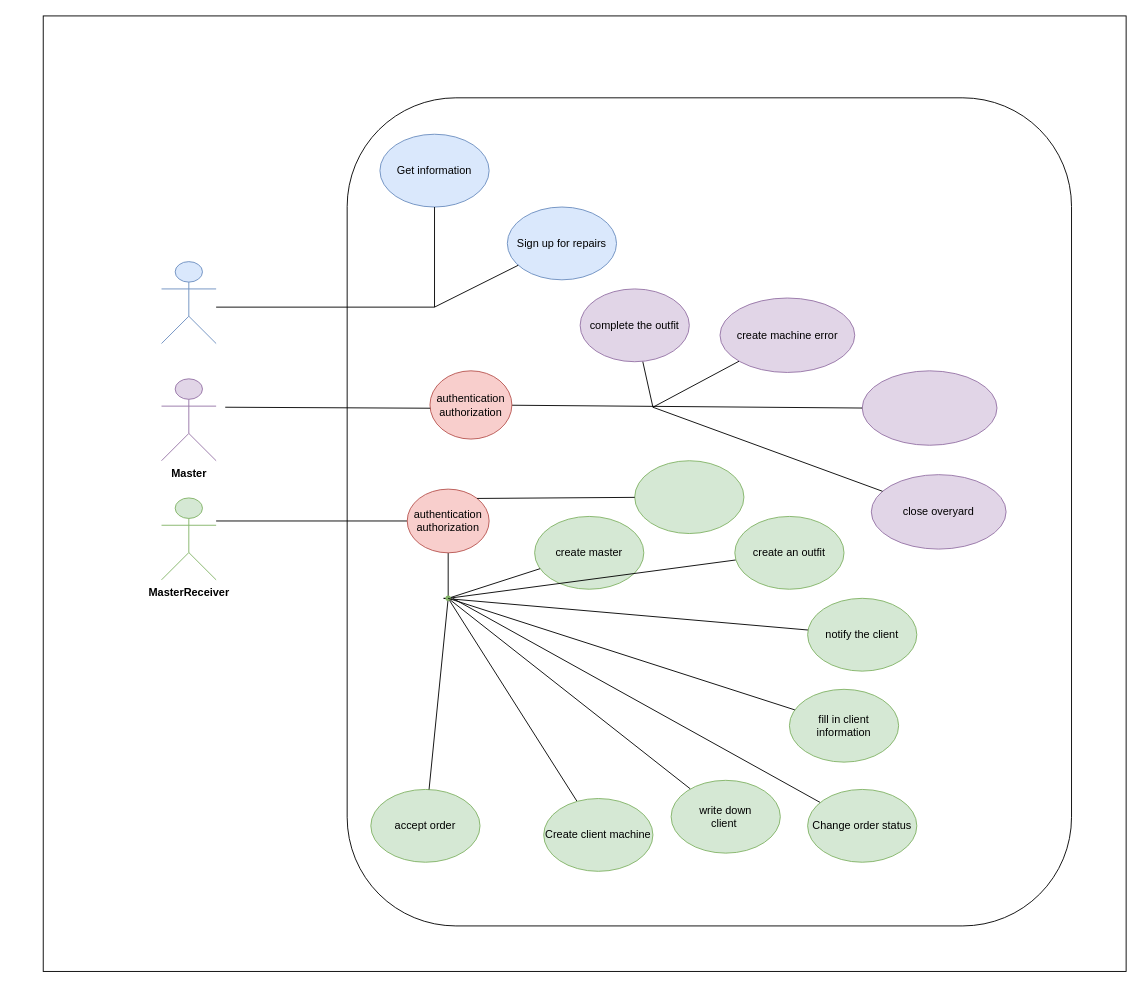
The diagram is 1142 pixels wide and 987 high, and some of its shapes have lost their labels. Each missing label, with the centre of its shape:
appoint a master: (689,497)
Client: (188,302)
to make a report: (929,407)
